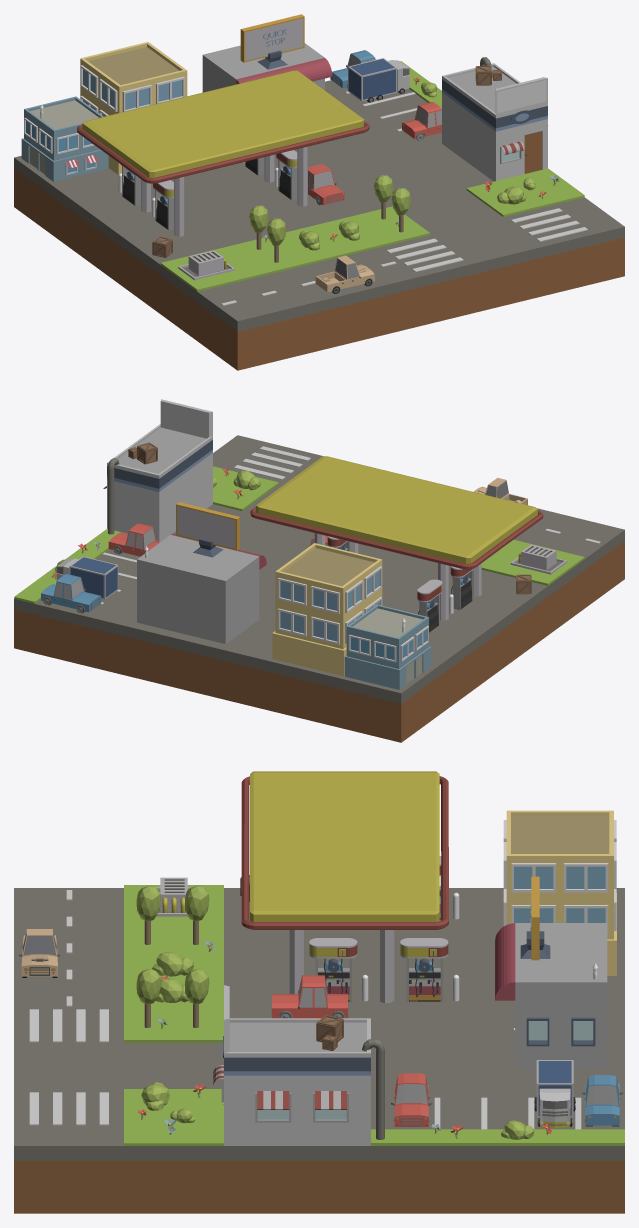
The model's file is station.gltf.
The picture shows the model from 3 angles, top to bottom: view 1: azimuth 30°, elevation 25°; view 2: azimuth 150°, elevation 25°; view 3: azimuth 270°, elevation 25°; orthographic projection. The views are drawn at different scales.
Parts seen in each view (by area): view 1: buffer-0-mesh-0_3, buffer-0-mesh-0_2, buffer-0-mesh-0_6, buffer-0-mesh-0_4, buffer-0-mesh-0_15, buffer-0-mesh-0_14, buffer-0-mesh-0_5, buffer-0-mesh-0_21, buffer-0-mesh-0_32, buffer-0-mesh-0_11, buffer-0-mesh-0_17, buffer-0-mesh-0_36 (+20 smaller); view 2: buffer-0-mesh-0_3, buffer-0-mesh-0_2, buffer-0-mesh-0_6, buffer-0-mesh-0_11, buffer-0-mesh-0_15, buffer-0-mesh-0_36, buffer-0-mesh-0_4, buffer-0-mesh-0_32, buffer-0-mesh-0_14, buffer-0-mesh-0_17, buffer-0-mesh-0_34, buffer-0-mesh-0_37 (+17 smaller); view 3: buffer-0-mesh-0_3, buffer-0-mesh-0_2, buffer-0-mesh-0_6, buffer-0-mesh-0_4, buffer-0-mesh-0_11, buffer-0-mesh-0_15, buffer-0-mesh-0_21, buffer-0-mesh-0_17, buffer-0-mesh-0_36, buffer-0-mesh-0_5, buffer-0-mesh-0, buffer-0-mesh-0_37 (+21 smaller).
Part boxes in pixels (left/top/right/bottom): buffer-0-mesh-0_3: left=14, top=57, right=624, bottom=331; buffer-0-mesh-0_2: left=14, top=131, right=624, bottom=370; buffer-0-mesh-0_6: left=82, top=70, right=364, bottom=197; buffer-0-mesh-0_4: left=160, top=61, right=584, bottom=291; buffer-0-mesh-0_15: left=442, top=63, right=547, bottom=181; buffer-0-mesh-0_14: left=120, top=18, right=307, bottom=236; buffer-0-mesh-0_5: left=221, top=80, right=587, bottom=305; buffer-0-mesh-0_21: left=249, top=82, right=535, bottom=250; buffer-0-mesh-0_32: left=21, top=96, right=559, bottom=238; buffer-0-mesh-0_11: left=202, top=43, right=524, bottom=164; buffer-0-mesh-0_17: left=77, top=121, right=548, bottom=204; buffer-0-mesh-0_36: left=80, top=42, right=187, bottom=174; buffer-0-mesh-0_3: left=14, top=435, right=624, bottom=703; buffer-0-mesh-0_2: left=14, top=540, right=624, bottom=742; buffer-0-mesh-0_6: left=256, top=456, right=537, bottom=591; buffer-0-mesh-0_11: left=106, top=486, right=259, bottom=643; buffer-0-mesh-0_15: left=107, top=399, right=212, bottom=541; buffer-0-mesh-0_36: left=272, top=543, right=382, bottom=676; buffer-0-mesh-0_4: left=14, top=466, right=584, bottom=603; buffer-0-mesh-0_32: left=94, top=542, right=431, bottom=689; buffer-0-mesh-0_14: left=177, top=506, right=481, bottom=620; buffer-0-mesh-0_17: left=103, top=486, right=543, bottom=600; buffer-0-mesh-0_34: left=277, top=566, right=382, bottom=644; buffer-0-mesh-0_37: left=283, top=548, right=374, bottom=586; buffer-0-mesh-0_3: left=14, top=888, right=624, bottom=1160; buffer-0-mesh-0_2: left=14, top=1160, right=624, bottom=1213; buffer-0-mesh-0_6: left=250, top=771, right=439, bottom=1001; buffer-0-mesh-0_4: left=124, top=885, right=624, bottom=1145; buffer-0-mesh-0_11: left=213, top=896, right=607, bottom=1122; buffer-0-mesh-0_15: left=224, top=985, right=370, bottom=1145; buffer-0-mesh-0_21: left=136, top=885, right=534, bottom=1139; buffer-0-mesh-0_17: left=213, top=776, right=448, bottom=1125; buffer-0-mesh-0_36: left=506, top=810, right=616, bottom=975; buffer-0-mesh-0_5: left=29, top=890, right=581, bottom=1129; buffer-0-mesh-0: left=223, top=931, right=595, bottom=1071; buffer-0-mesh-0_37: left=511, top=816, right=609, bottom=853.
Bounding box in the file's own units: 1.74 × 0.628 × 1.66.
